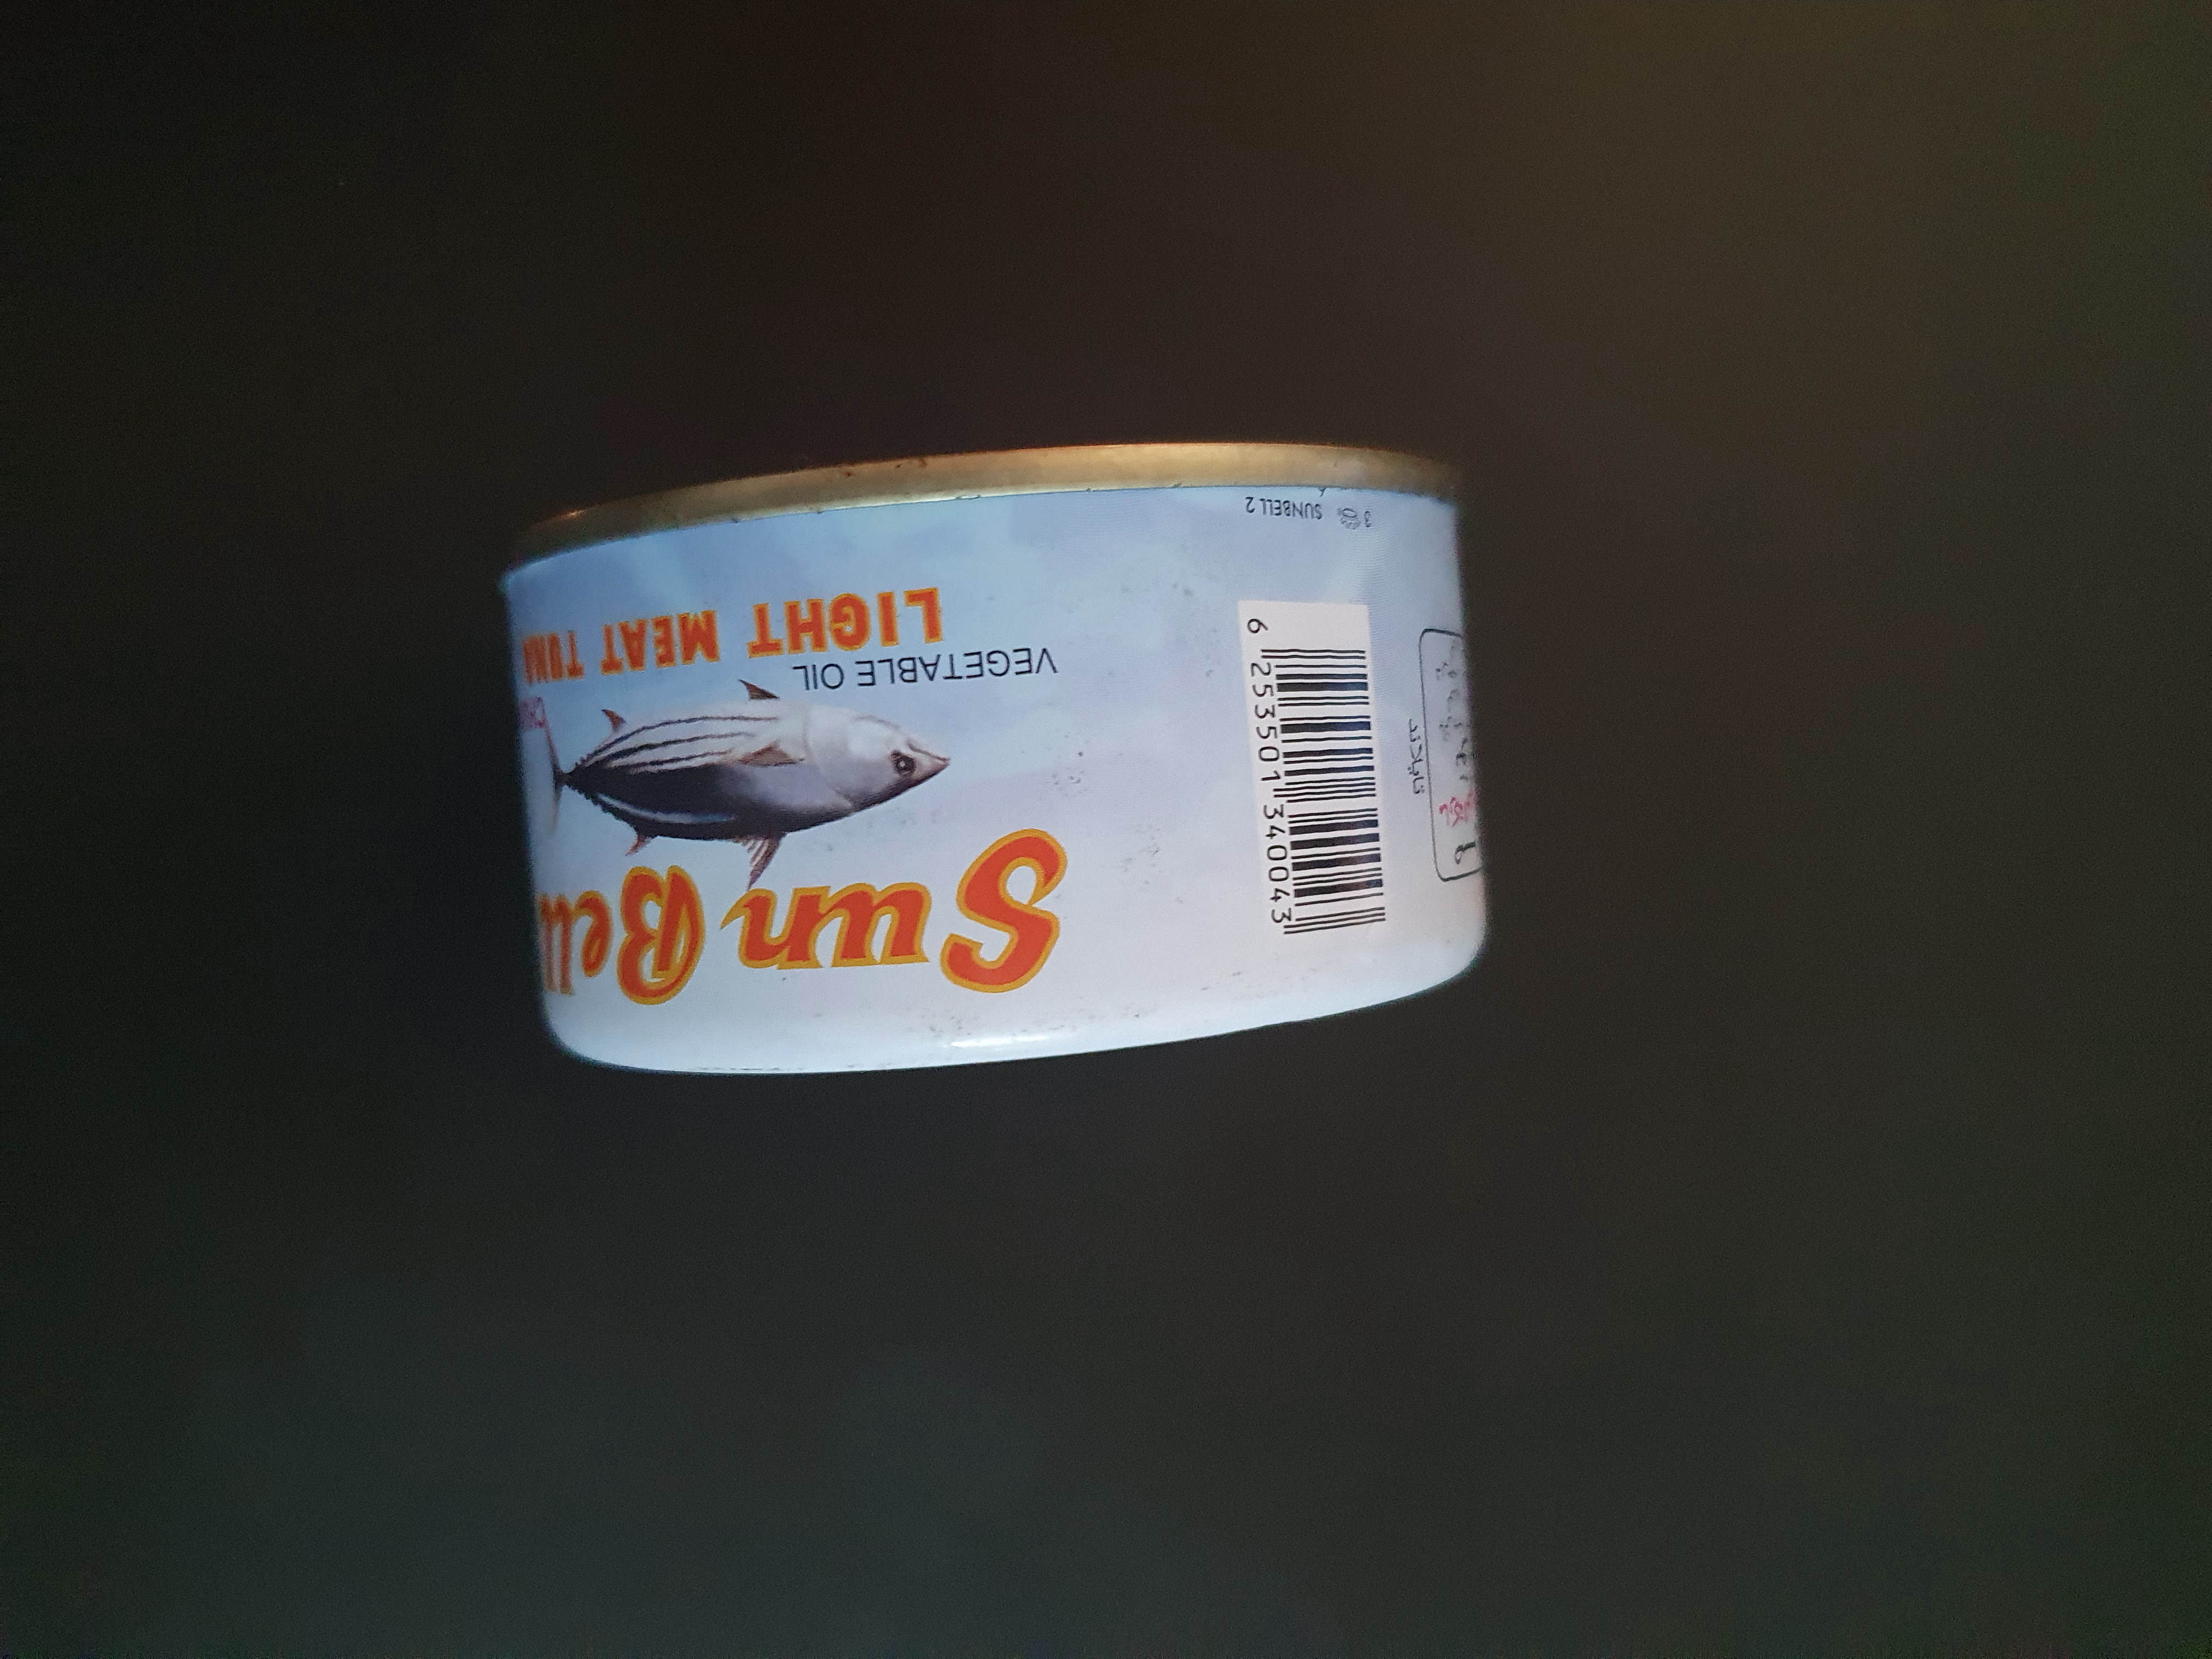metal: (368, 298, 1561, 1182)
